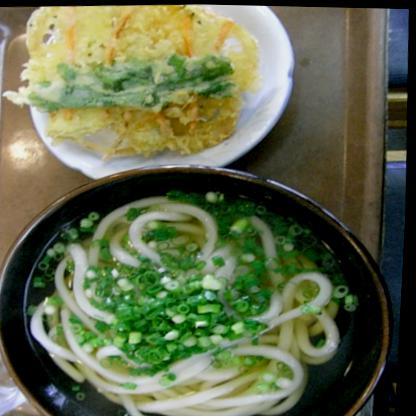Udon: (16, 188, 367, 415)
